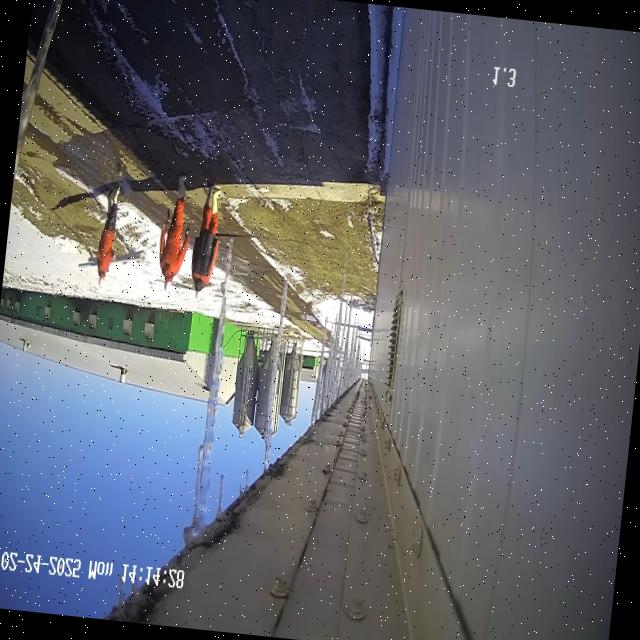Red uniform: (159, 173, 188, 289), (191, 184, 220, 293), (96, 187, 119, 285)
